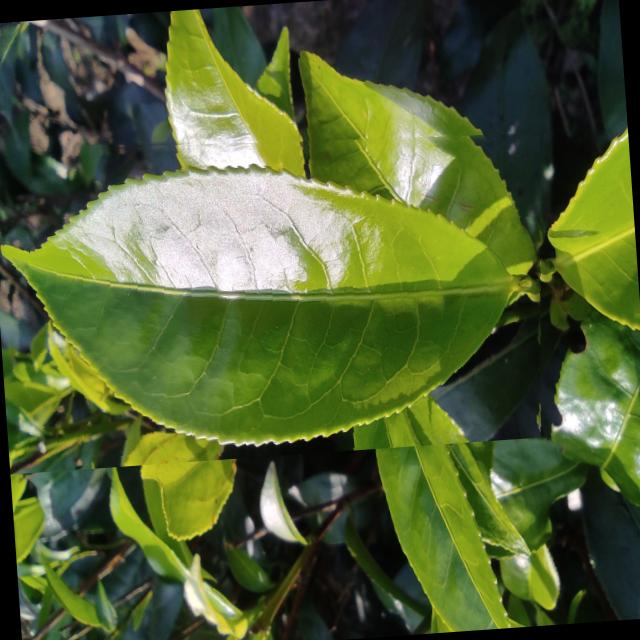Category B(2-4 days): (0, 111, 560, 473)
